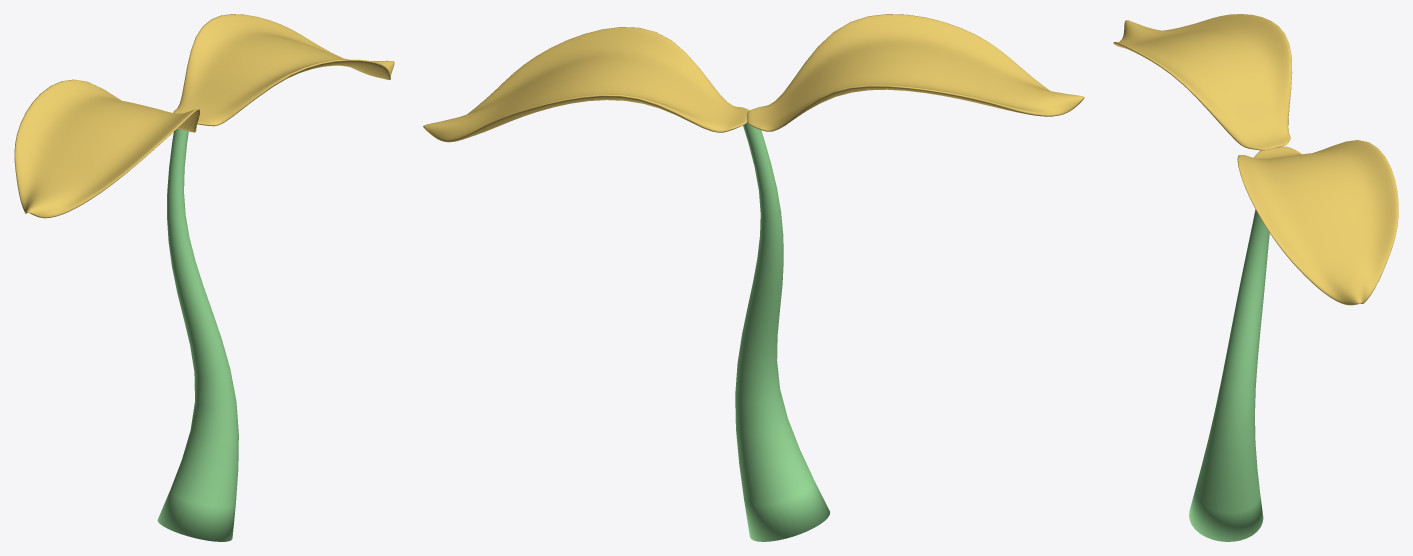
Rendered from BeePlant#1.fbx.
3 views of the same model, side by side, from view 1: azimuth 30°, elevation 25°; view 2: azimuth 150°, elevation 25°; view 3: azimuth 270°, elevation 25° (orthographic). The views are drawn at different scales.
Parts seen in each view (by area): view 1: Vert.005, Plane.006, Plane.004; view 2: Plane.006, Vert.005, Plane.004; view 3: Plane.004, Plane.006, Vert.005.
Part boxes in pixels (left/top/right/bottom): Vert.005: left=157, top=129, right=238, bottom=541; Plane.006: left=14, top=79, right=199, bottom=218; Plane.004: left=173, top=14, right=394, bottom=126; Plane.006: left=747, top=14, right=1084, bottom=131; Vert.005: left=735, top=122, right=829, bottom=541; Plane.004: left=423, top=27, right=749, bottom=142; Plane.004: left=1237, top=140, right=1398, bottom=305; Plane.006: left=1113, top=14, right=1292, bottom=150; Vert.005: left=1189, top=209, right=1269, bottom=541.
Bounding box in the file's own units: 245 × 222 × 129.
